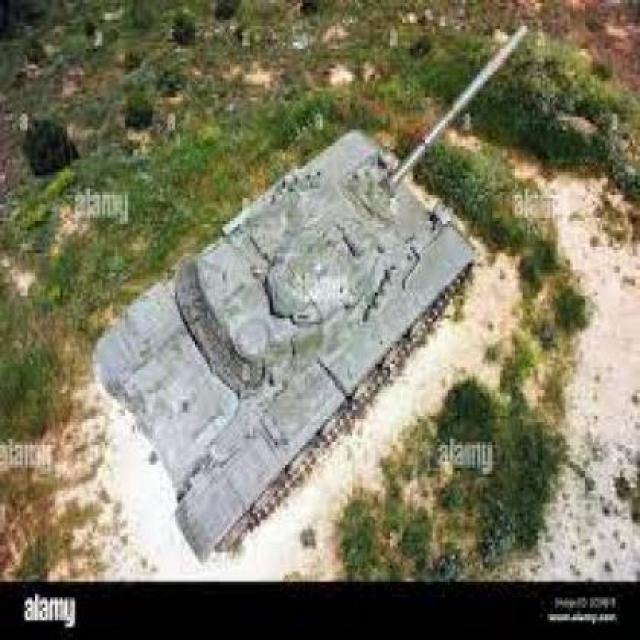tank: (86, 18, 533, 568)
